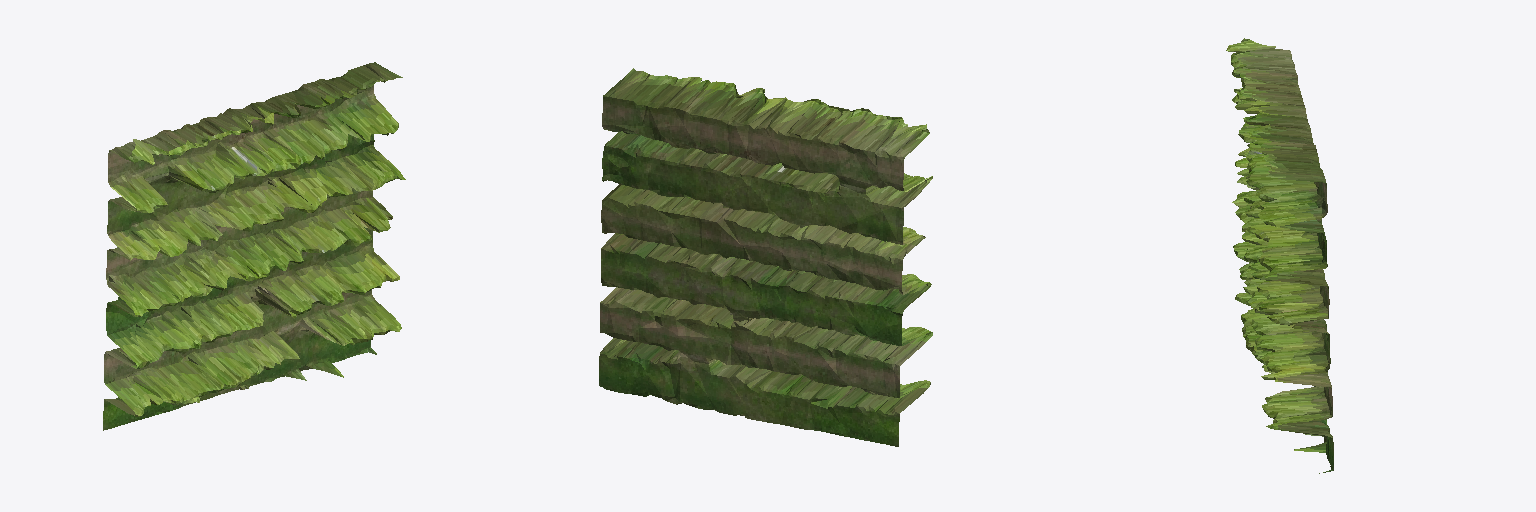
The picture shows the model from 3 angles: view 1: azimuth 30°, elevation 25°; view 2: azimuth 150°, elevation 25°; view 3: azimuth 270°, elevation 25°; orthographic projection.
Parts seen in each view (by area): view 1: grp1; view 2: grp1; view 3: grp1.
Boxes of the visible parts, x1,y1,x2,y2 form: grp1: [103, 62, 405, 430]; grp1: [599, 68, 932, 446]; grp1: [1226, 38, 1333, 473].
Bounding box in the file's own units: 10 × 10 × 3.29.
Materials: 1 (1 with a texture image).